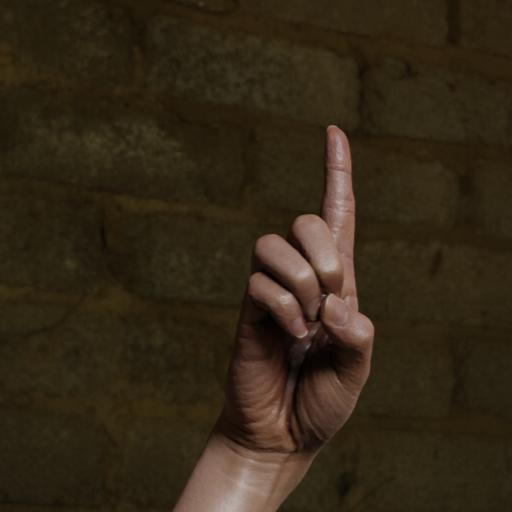D: (206, 118, 384, 461)
